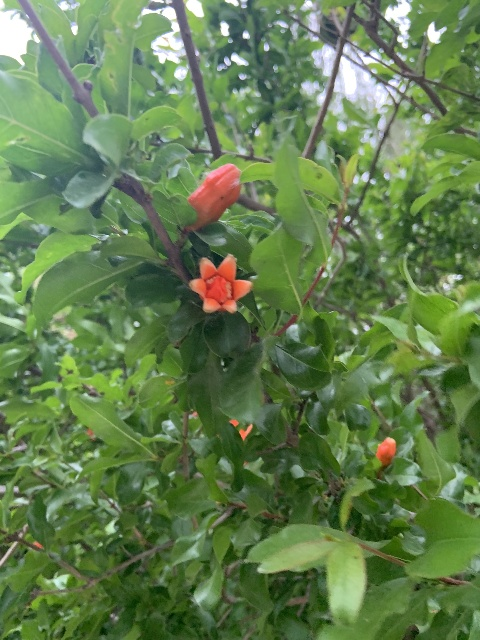bud: (185, 162, 242, 230), (376, 437, 396, 467)
flower: (188, 253, 253, 314)
